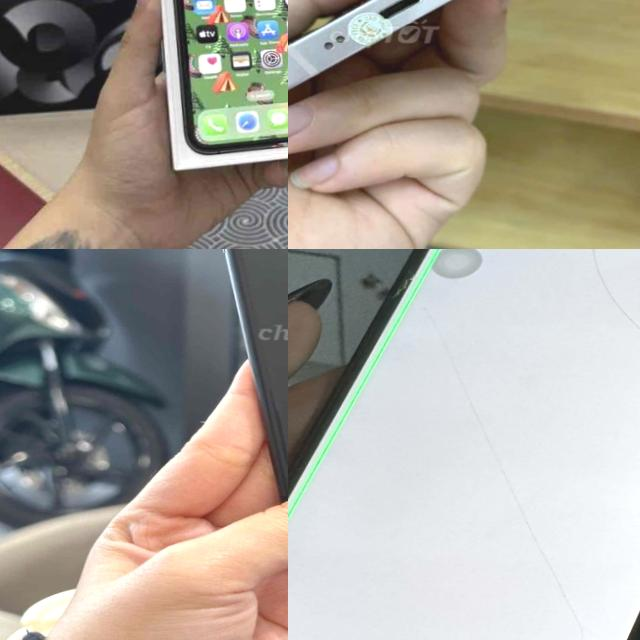gen_11: (189, 249, 288, 527)
gen_12_13: (288, 0, 582, 112)
gen_x_xs: (288, 249, 640, 640), (133, 0, 288, 152)
